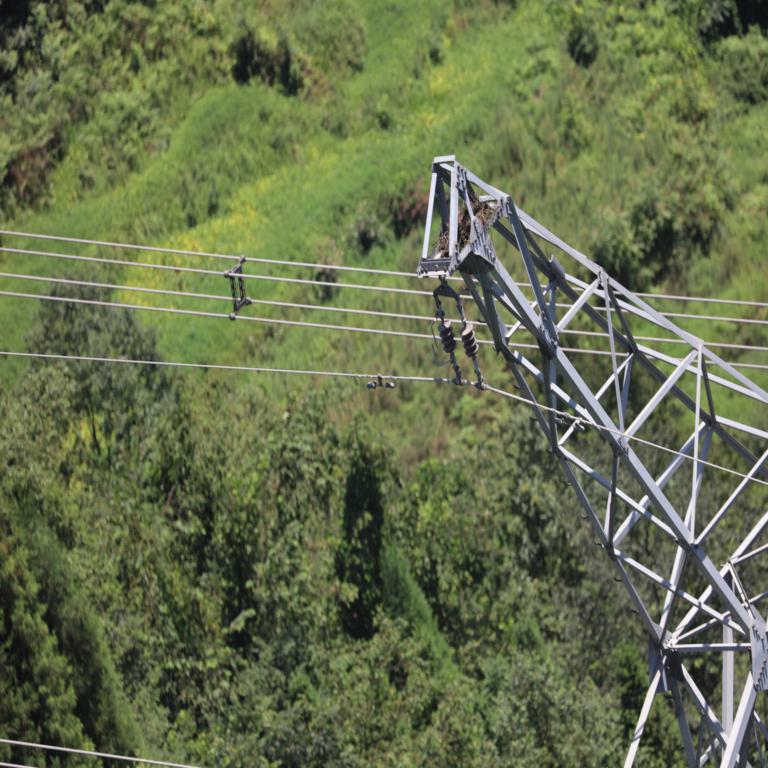nest: (442, 191, 486, 255)
